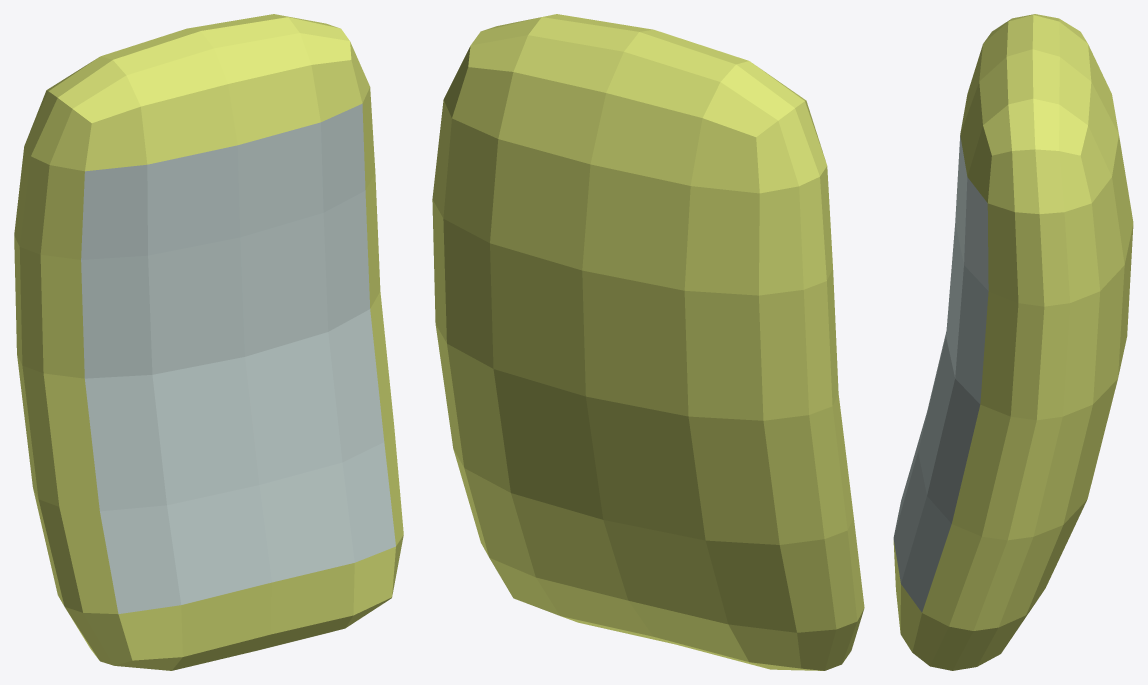
The model's file is DirtBag.fbx.
3 renders of one model, left to right at view 1: azimuth 30°, elevation 25°; view 2: azimuth 150°, elevation 25°; view 3: azimuth 270°, elevation 25°, orthographic. The views are drawn at different scales.
Visible parts, largest first — view 1: Cube; view 2: Cube; view 3: Cube.
Boxes of the visible parts, x1,y1,x2,y2 form: Cube: (14,14,403,670); Cube: (432,14,864,670); Cube: (893,14,1133,670).
Size of the model in its own units: 56.24 by 88.78 by 33.86.
